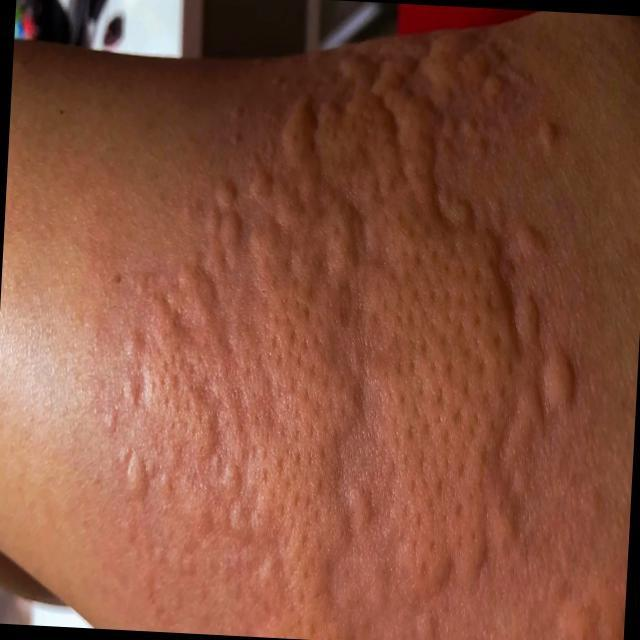Eczema: (79, 27, 602, 640)
